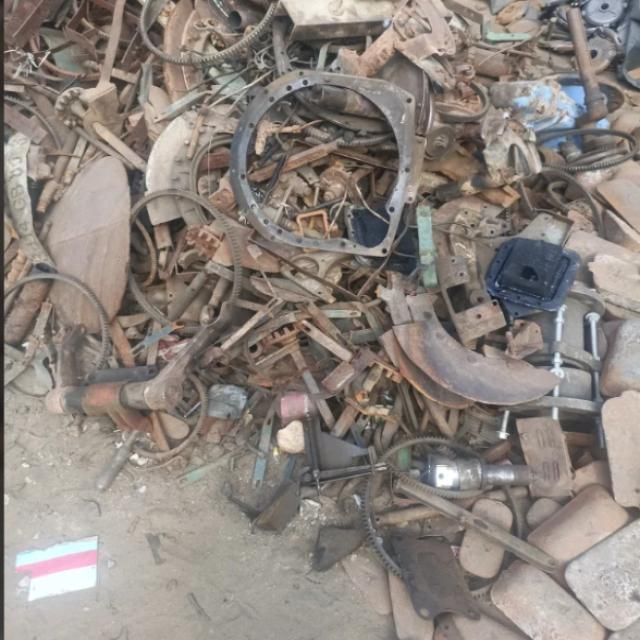Cylinder: (281, 393, 317, 419)
